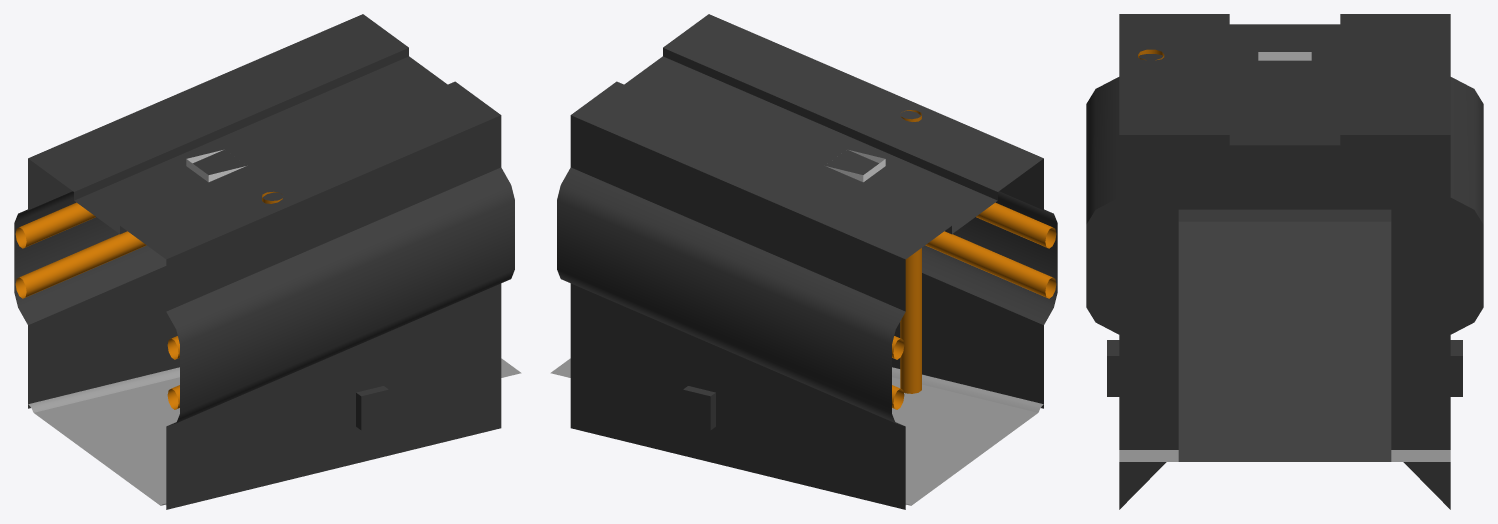
File: entrance.fbx
3 renders of one model, left to right at view 1: azimuth 30°, elevation 25°; view 2: azimuth 150°, elevation 25°; view 3: azimuth 270°, elevation 25°, orthographic. The views are drawn at different scales.
Parts seen in each view (by area): view 1: int_entrance.003, int_entrance.001, int_entrance.002; view 2: int_entrance.003, int_entrance.001, int_entrance.002; view 3: int_entrance.003, int_entrance, int_entrance.001, int_entrance.004.
Boxes of the visible parts, bbox=[...] form: int_entrance.003: bbox=[14, 14, 514, 509]; int_entrance.001: bbox=[28, 358, 521, 505]; int_entrance.002: bbox=[15, 191, 282, 409]; int_entrance.003: bbox=[557, 14, 1057, 509]; int_entrance.001: bbox=[550, 358, 1043, 505]; int_entrance.002: bbox=[892, 110, 1056, 409]; int_entrance.003: bbox=[1086, 14, 1483, 509]; int_entrance: bbox=[1178, 221, 1391, 461]; int_entrance.001: bbox=[1119, 450, 1450, 461]; int_entrance.004: bbox=[1258, 52, 1311, 60].
Bounding box in the file's own units: 2.97 × 2.5 × 2.4.
